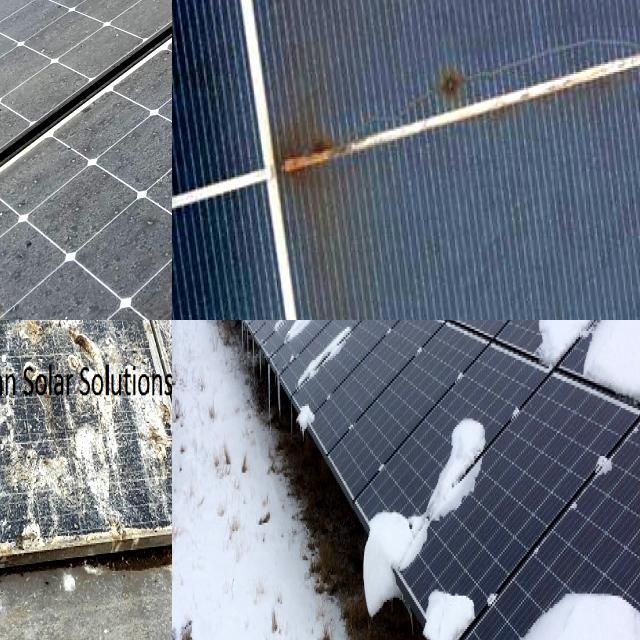bird: (25, 439, 75, 496), (0, 504, 34, 579), (63, 320, 107, 376), (143, 402, 172, 475), (5, 507, 50, 550), (0, 439, 24, 516), (0, 478, 19, 564), (0, 328, 18, 381), (0, 394, 16, 453), (11, 320, 48, 344), (0, 320, 21, 355), (0, 320, 12, 371), (0, 320, 30, 338), (46, 320, 90, 331), (141, 320, 172, 334)
dust: (38, 138, 172, 316), (15, 0, 172, 91), (0, 54, 67, 151), (0, 0, 68, 53), (0, 0, 106, 28)
panel: (416, 367, 490, 534), (507, 550, 640, 640), (293, 320, 358, 434), (357, 466, 422, 572), (424, 556, 497, 640), (578, 320, 640, 410), (529, 320, 575, 408), (264, 320, 357, 355), (596, 443, 626, 503)
shadow: (245, 57, 384, 210), (412, 38, 490, 132)
